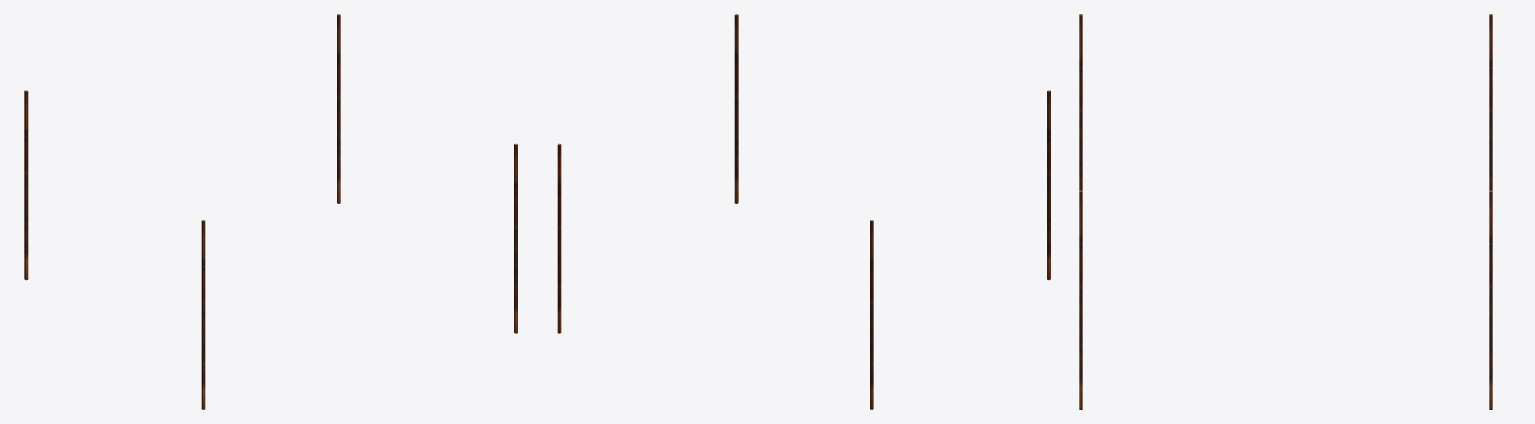
File: fortress_prop.dae
The picture shows the model from 3 angles, left to right: view 1: azimuth 30°, elevation 25°; view 2: azimuth 150°, elevation 25°; view 3: azimuth 270°, elevation 25°; orthographic projection. The views are drawn at different scales.
Visible parts, largest first — view 1: fortress_prop; view 2: fortress_prop; view 3: fortress_prop.
Boxes of the visible parts, x1,y1,x2,y2 form: fortress_prop: [24, 14, 517, 409]; fortress_prop: [557, 14, 1050, 409]; fortress_prop: [1079, 14, 1492, 409].
Size of the model in its own units: 23.78 by 24.95 by 13.6.
